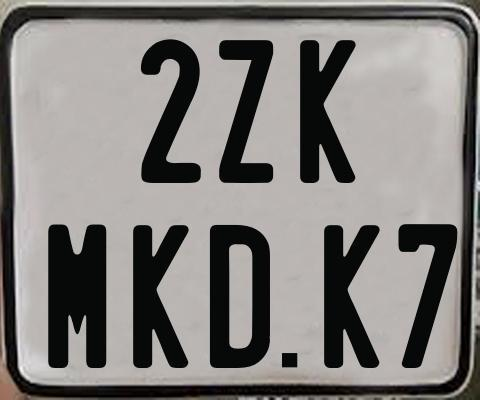2: (138, 37, 204, 181)
7: (397, 221, 460, 366)
D: (210, 225, 272, 373)
K: (300, 39, 360, 184), (130, 223, 190, 366), (323, 223, 380, 368)
M: (46, 223, 110, 373)
Z: (218, 37, 273, 184)
